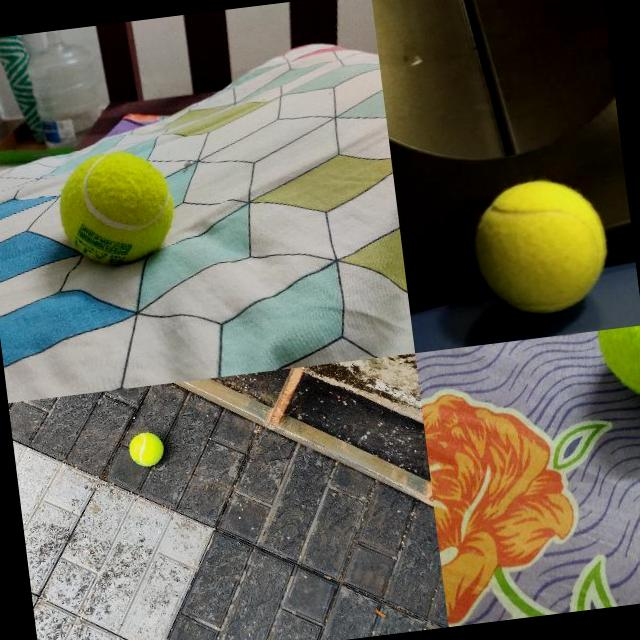Tennis Ball: (466, 168, 618, 322), (53, 144, 179, 270), (126, 429, 166, 468)
